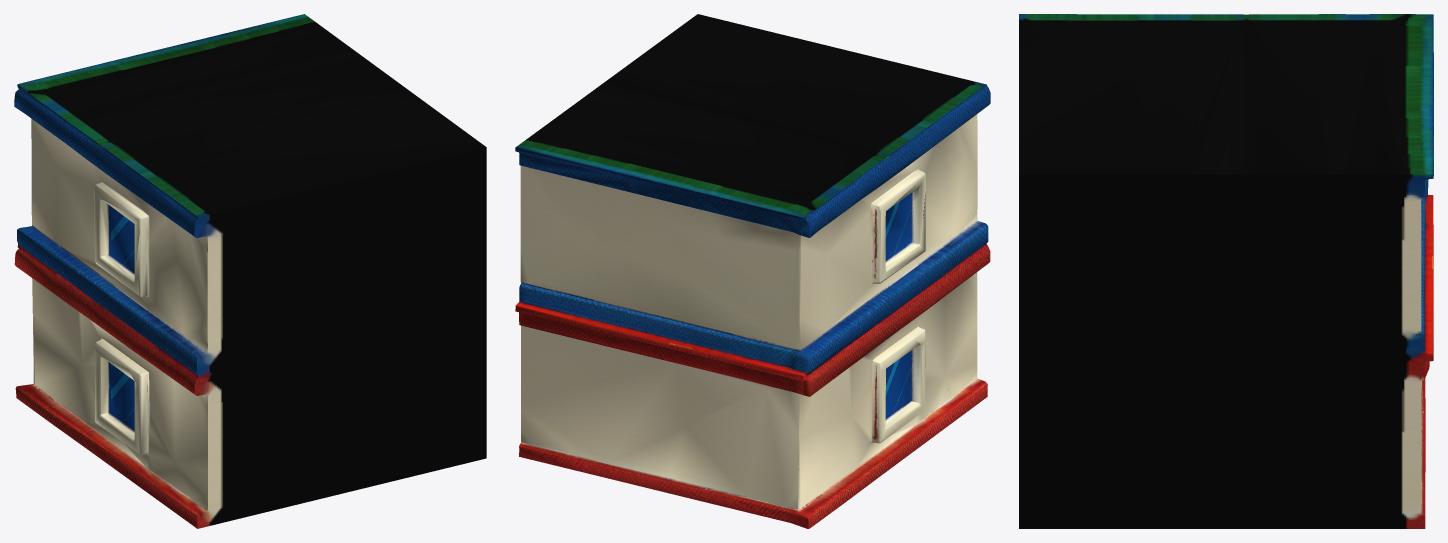
The model's file is 7-upper-walls-back-left.fbx.
3 views of the same model, side by side, from view 1: azimuth 30°, elevation 25°; view 2: azimuth 150°, elevation 25°; view 3: azimuth 270°, elevation 25° (orthographic). The views are drawn at different scales.
Visible parts, largest first — view 1: upper-walls-back-left; view 2: upper-walls-back-left; view 3: upper-walls-back-left.
Part boxes in pixels (left/top/right/bottom): upper-walls-back-left: left=14, top=14, right=486, bottom=528; upper-walls-back-left: left=515, top=14, right=990, bottom=528; upper-walls-back-left: left=1019, top=14, right=1433, bottom=528.
Size of the model in its own units: 5023 by 5098 by 5405.
1 material, 1 textured.
